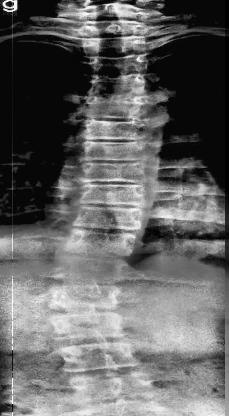Vertebrae: (70, 369, 156, 405), (56, 339, 143, 373), (47, 311, 133, 343), (52, 254, 128, 290), (58, 228, 136, 260), (47, 283, 122, 315), (72, 203, 146, 233), (75, 180, 148, 210), (80, 158, 156, 186), (77, 116, 155, 142), (80, 92, 150, 120), (79, 138, 153, 162), (80, 34, 146, 57), (79, 17, 147, 39), (87, 72, 149, 96), (87, 51, 151, 74), (78, 4, 146, 24)
